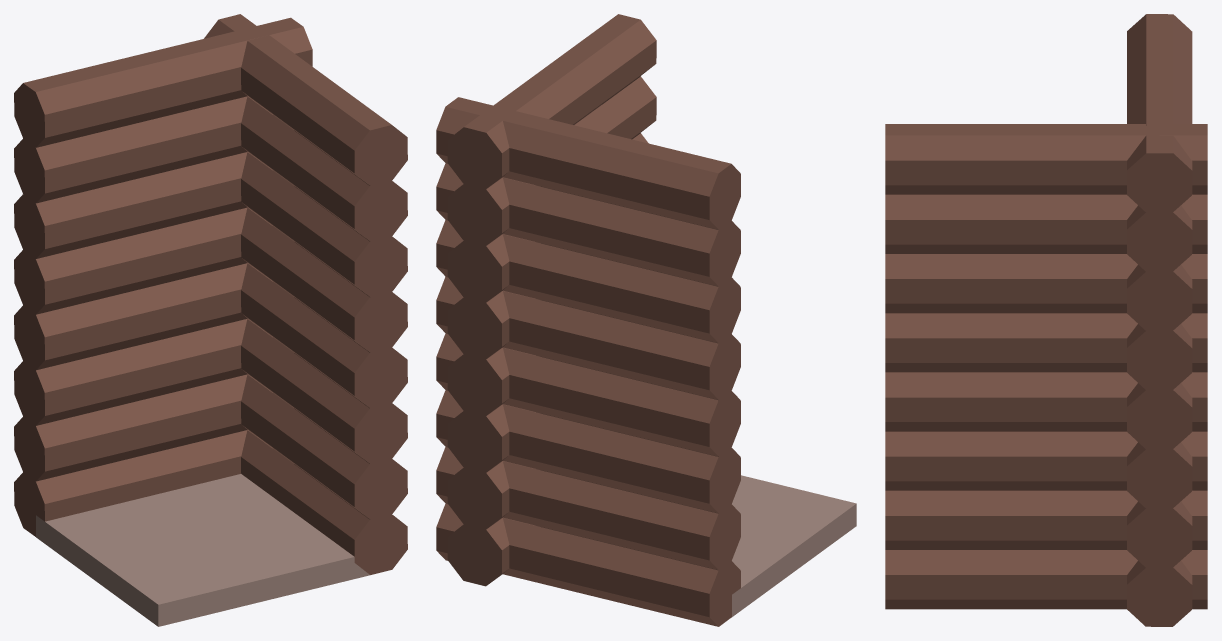
File: Wall_Corner(2).fbx
3 views of the same model, side by side, from view 1: azimuth 30°, elevation 25°; view 2: azimuth 150°, elevation 25°; view 3: azimuth 270°, elevation 25° (orthographic). The views are drawn at different scales.
Visible parts, largest first — view 1: Wall_Corner; view 2: Wall_Corner; view 3: Wall_Corner.
Boxes of the visible parts, box(x1,y1,x2,y2) form: Wall_Corner: box(14, 14, 407, 626); Wall_Corner: box(436, 14, 856, 626); Wall_Corner: box(885, 14, 1207, 626).
Bounding box in the file's own units: 1.26 × 2.01 × 1.24.
Materials: 1 (1 with a texture image).
